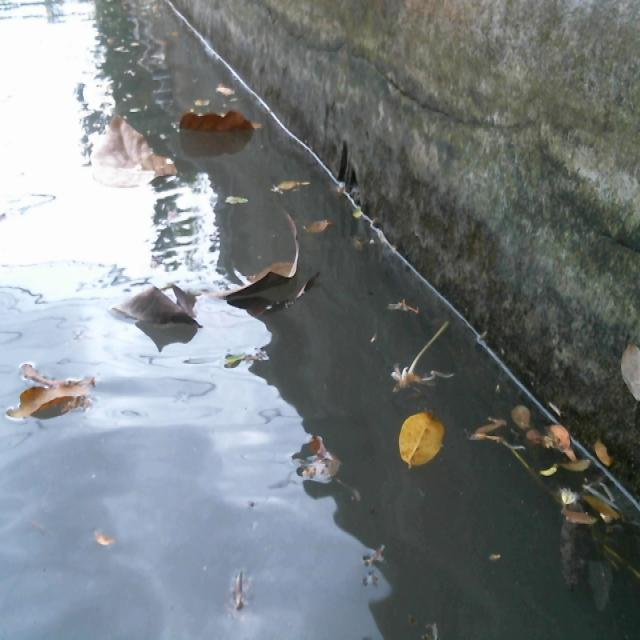Big-leaf: (112, 217, 312, 341), (17, 357, 102, 431), (91, 112, 174, 177), (182, 109, 262, 142)
Small-leaf: (393, 407, 460, 482), (295, 438, 346, 494), (551, 421, 593, 483), (577, 477, 620, 524), (72, 525, 128, 555), (382, 279, 426, 316), (302, 205, 346, 240), (272, 170, 315, 205), (567, 499, 604, 538), (215, 191, 258, 221), (349, 231, 379, 267), (587, 439, 614, 478), (475, 539, 510, 565), (506, 395, 534, 427)
